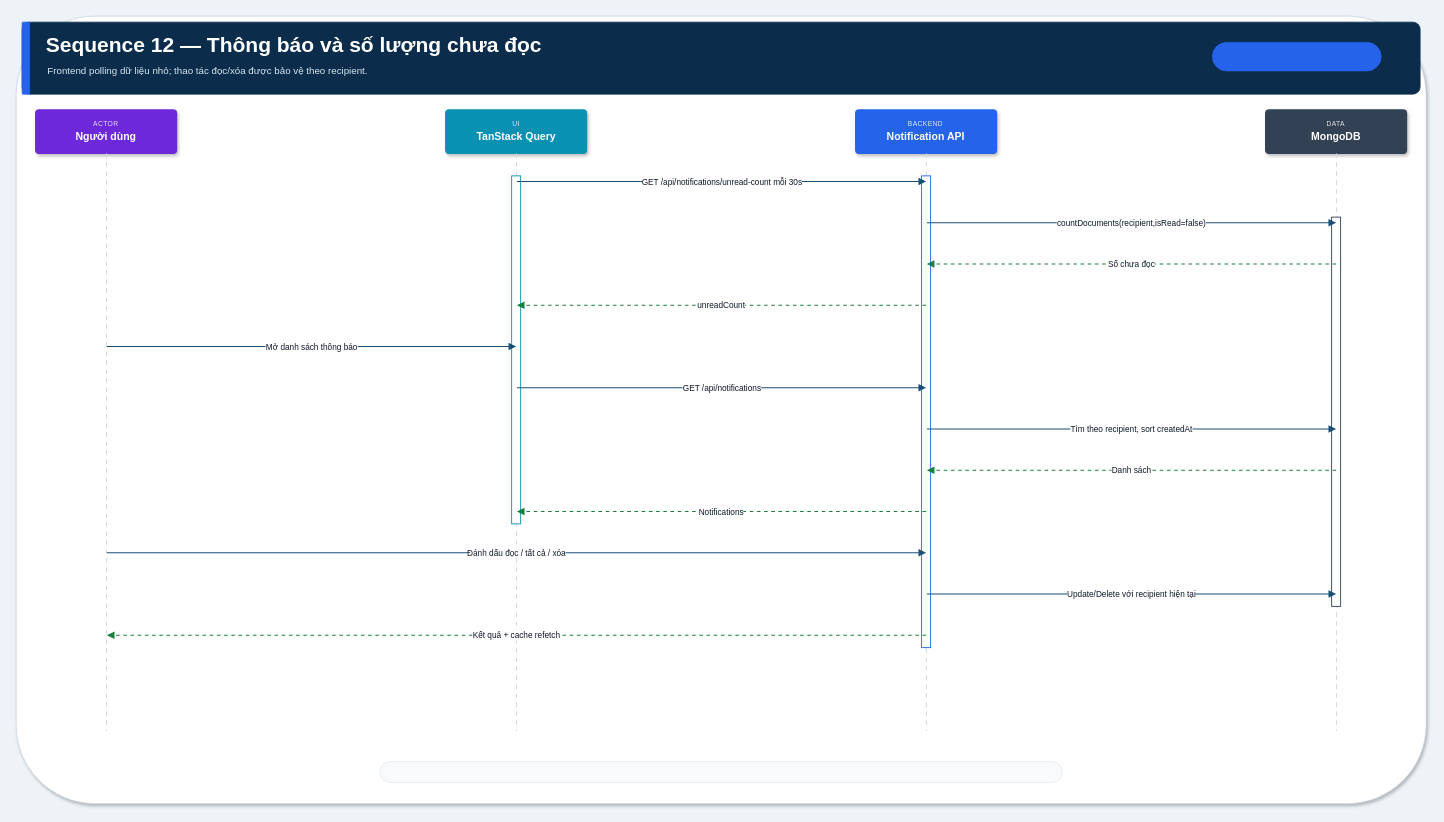
Image size: 1444x822. Some labels were removed from this diagram. Each missing label, with the centre of its shape:
"SEQUENCE DIAGRAM" belongs at [1296,56].
"Yêu cầu/lệnh: nét liền navy • Phản hồi: nét đứt xanh lá • Xử lý nội bộ: thẻ vàng" belongs at [720,772].
